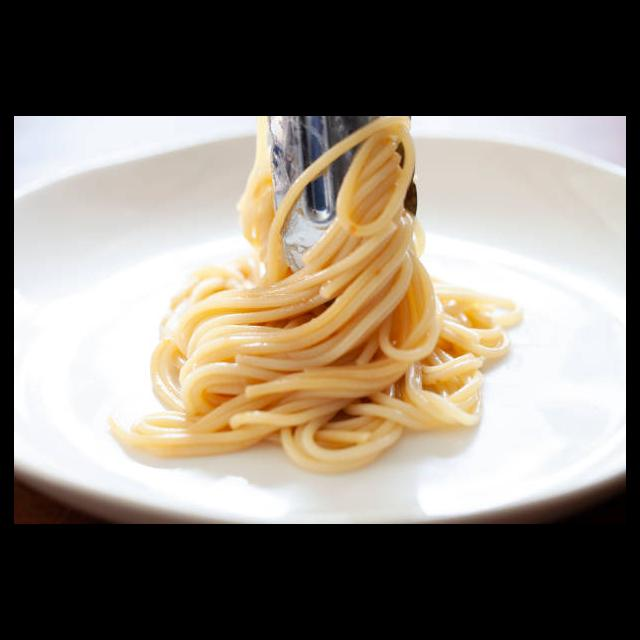noodles: (105, 116, 522, 475)
